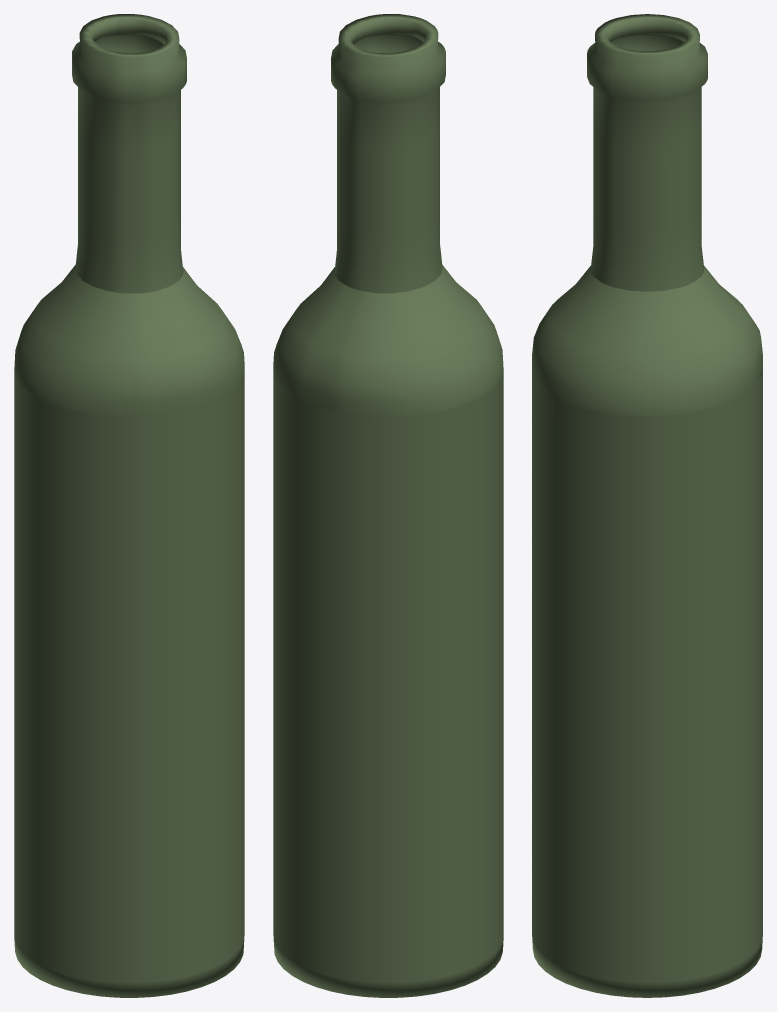
The model's file is winebottle_reduced.fbx.
3 renders of one model, left to right at view 1: azimuth 30°, elevation 25°; view 2: azimuth 150°, elevation 25°; view 3: azimuth 270°, elevation 25°, orthographic.
Visible parts, largest first — view 1: polySurface18, polySurface17, polySurface16, polySurface20, polySurface19; view 2: polySurface18, polySurface17, polySurface16, polySurface20, polySurface19; view 3: polySurface18, polySurface17, polySurface16, polySurface20, polySurface19.
Boxes of the visible parts, x1,y1,x2,y2 form: polySurface18: (14, 370, 244, 709); polySurface17: (14, 662, 244, 982); polySurface16: (72, 14, 186, 293); polySurface20: (14, 265, 244, 416); polySurface19: (14, 938, 244, 997); polySurface18: (273, 369, 503, 709); polySurface17: (273, 662, 503, 982); polySurface16: (331, 14, 445, 293); polySurface20: (273, 265, 503, 417); polySurface19: (273, 938, 503, 997); polySurface18: (532, 368, 762, 709); polySurface17: (532, 661, 762, 982); polySurface16: (587, 14, 707, 291); polySurface20: (532, 266, 762, 416); polySurface19: (532, 935, 762, 997).
Size of the model in its own units: 7.11 by 31.12 by 7.11.
